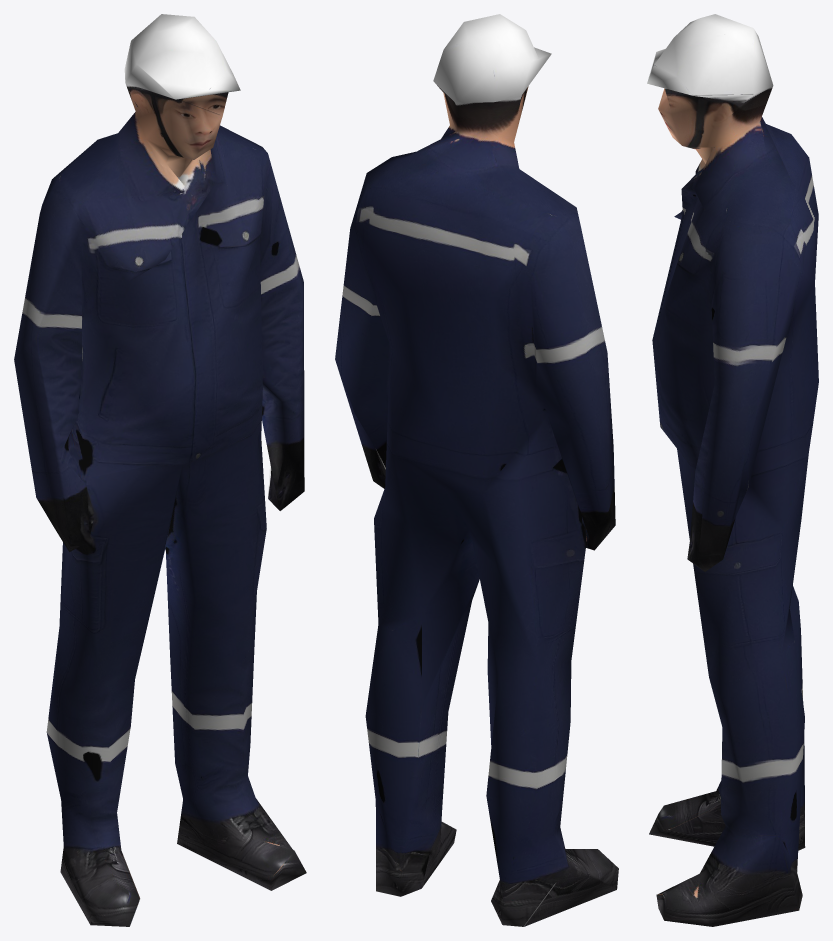
The model's file is StandingWorkerLowPoly_optimized.glb.
3 renders of one model, left to right at view 1: azimuth 30°, elevation 25°; view 2: azimuth 150°, elevation 25°; view 3: azimuth 270°, elevation 25°, orthographic.
Visible parts, largest first — view 1: Mesh1.0; view 2: Mesh1.0; view 3: Mesh1.0.
Part boxes in pixels (x1,y1,x2,y2): Mesh1.0: (14, 14, 306, 926); Mesh1.0: (335, 14, 618, 926); Mesh1.0: (647, 14, 818, 926).
Size of the model in its own units: 0.6605 by 2 by 0.3622.
1 material, 1 textured.
